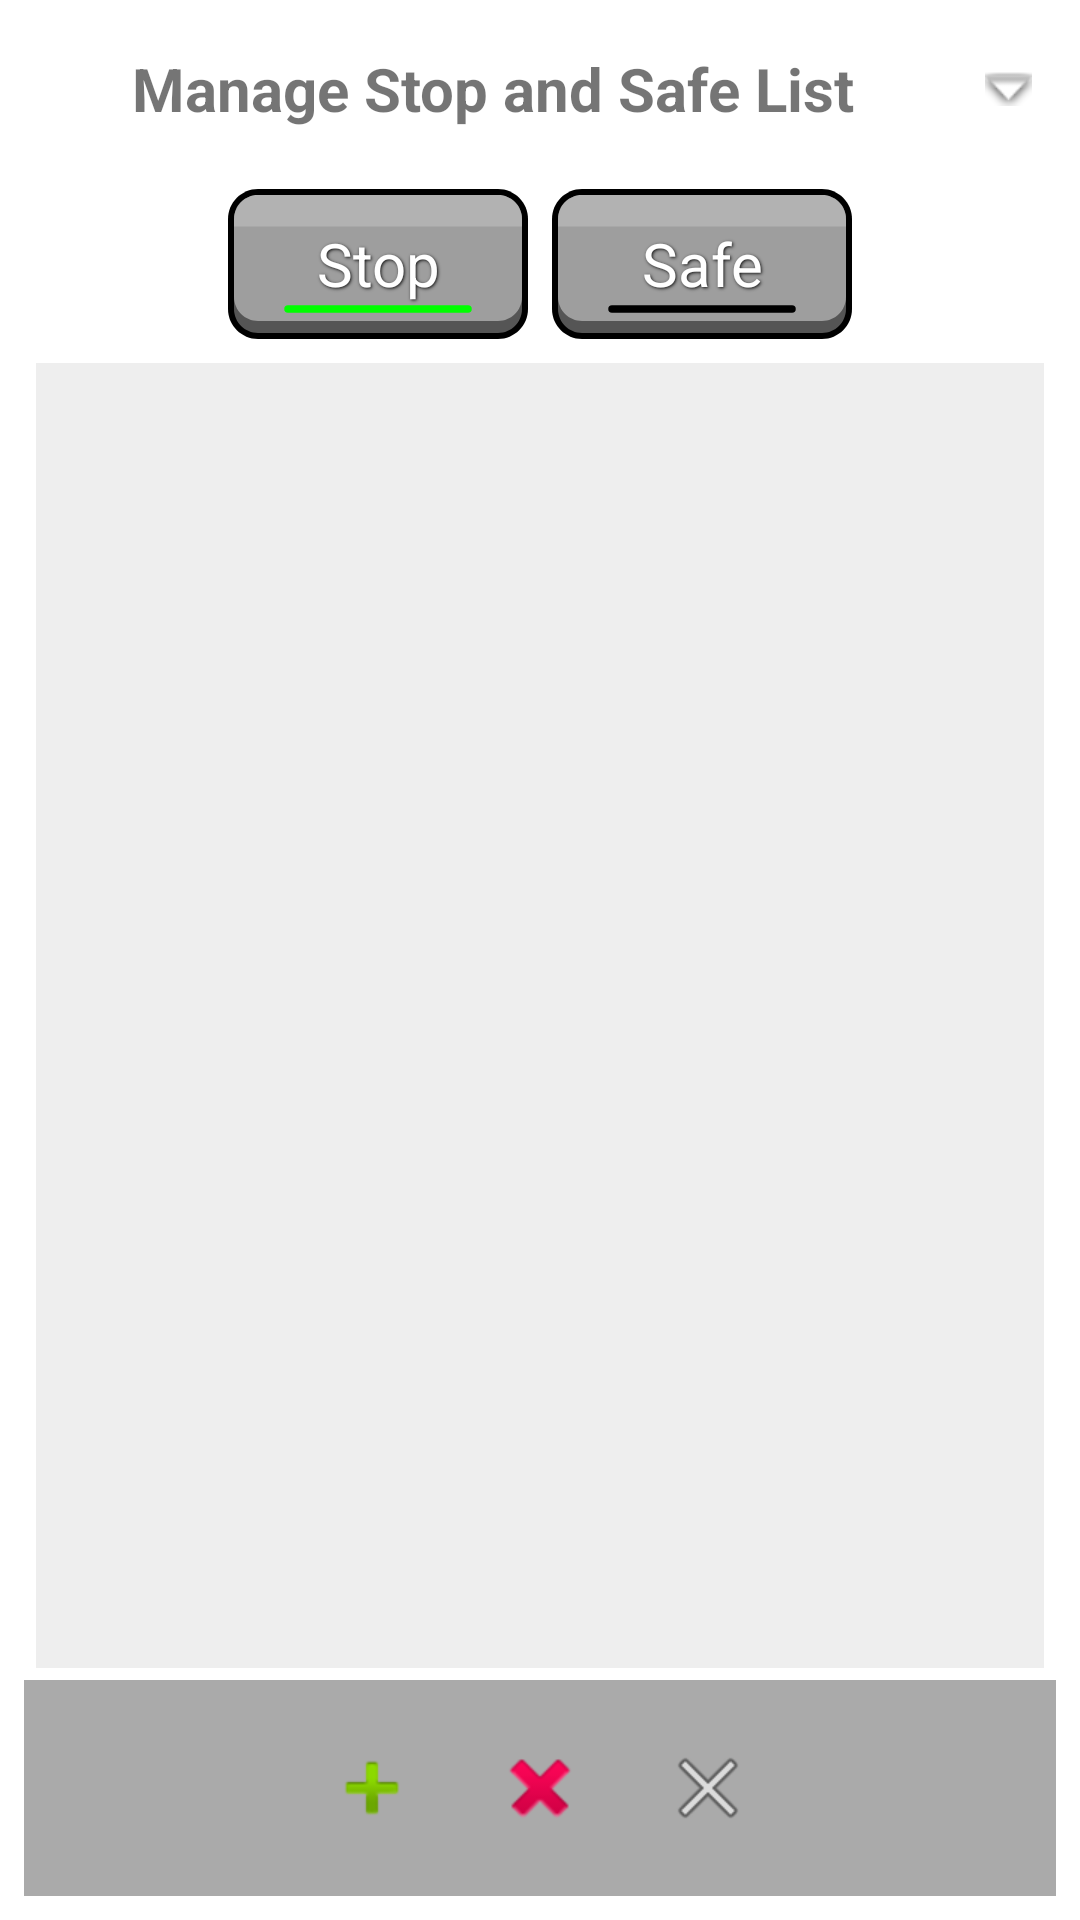

Point at icon controls on the screen. Image size 1080x1920, points as (x,y).
Add Pattern: (372,1788)
Clear All Patterns: (708,1788)
Delete Selected Patterns: (540,1788)
Expand or Collapse Description: (1008,89)
